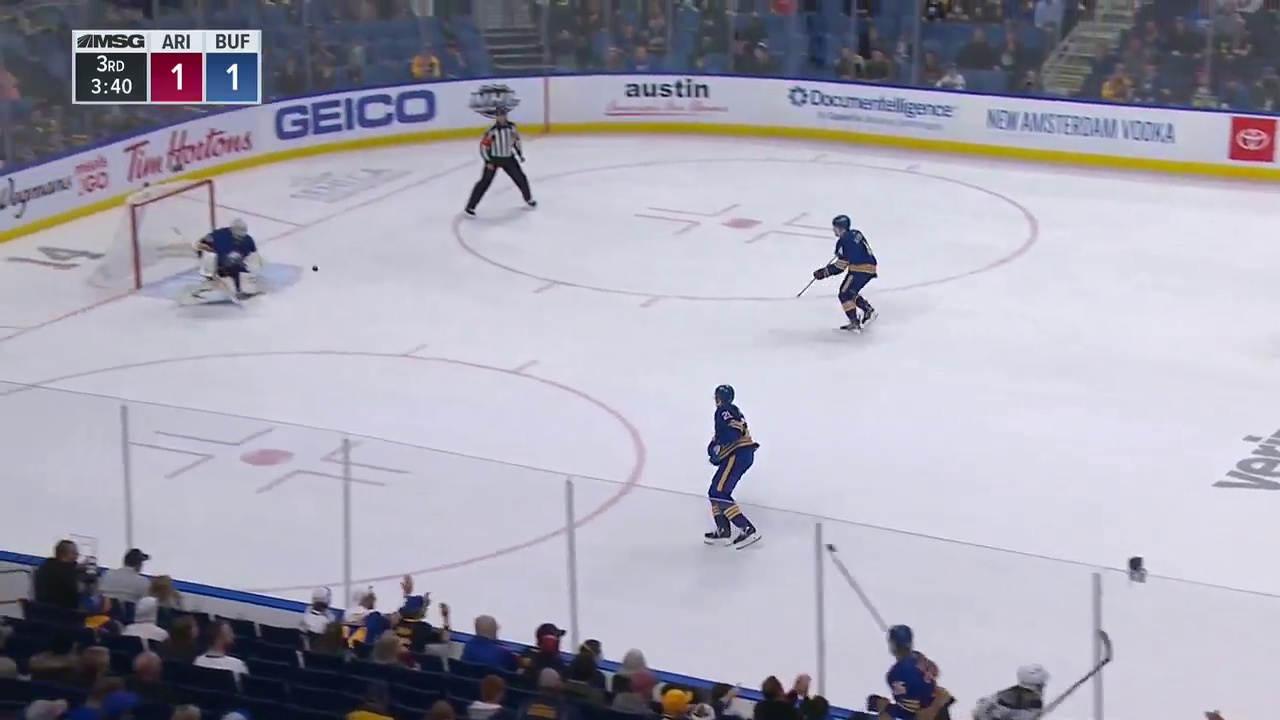goalie: (178, 219, 266, 304)
hockeyplayer: (704, 385, 761, 549), (867, 624, 956, 720), (813, 215, 878, 336), (971, 663, 1049, 720)
referee: (465, 106, 537, 217)
